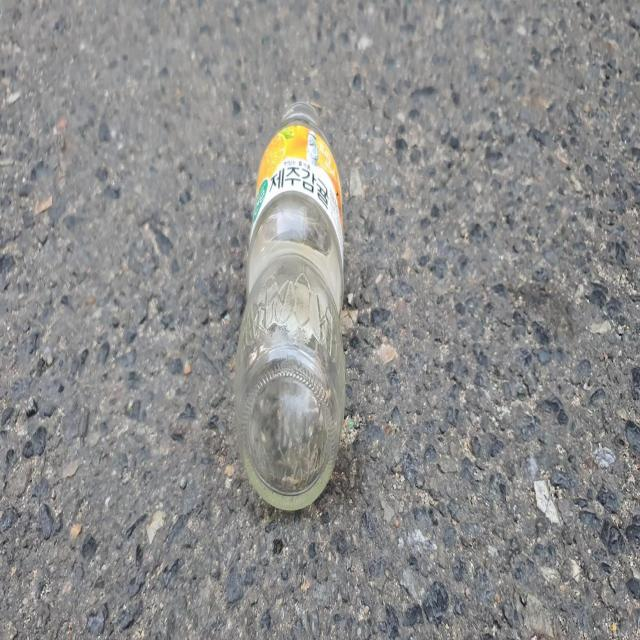glass: (235, 100, 345, 508)
